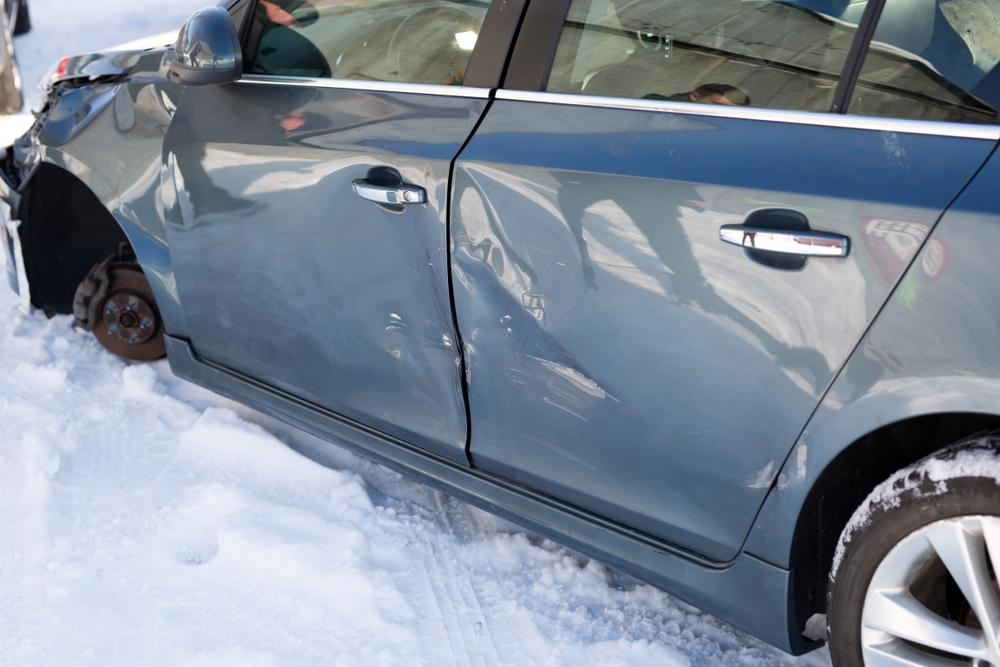dent: (439, 219, 618, 411), (320, 177, 463, 396)
